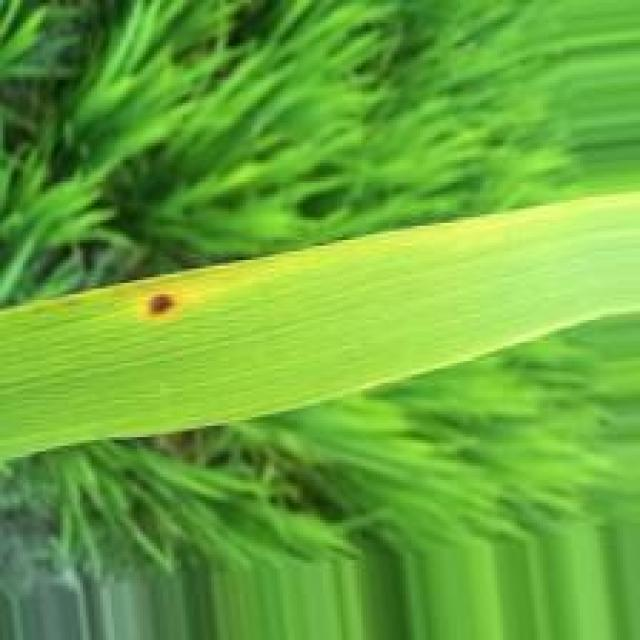Brown_Spot: (142, 287, 184, 319)
